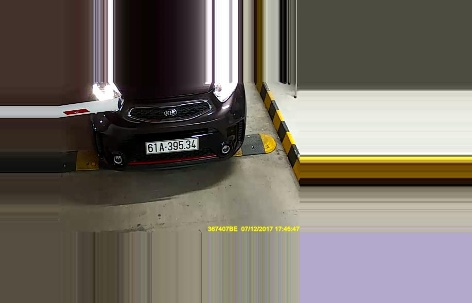plate: (143, 137, 198, 153)
